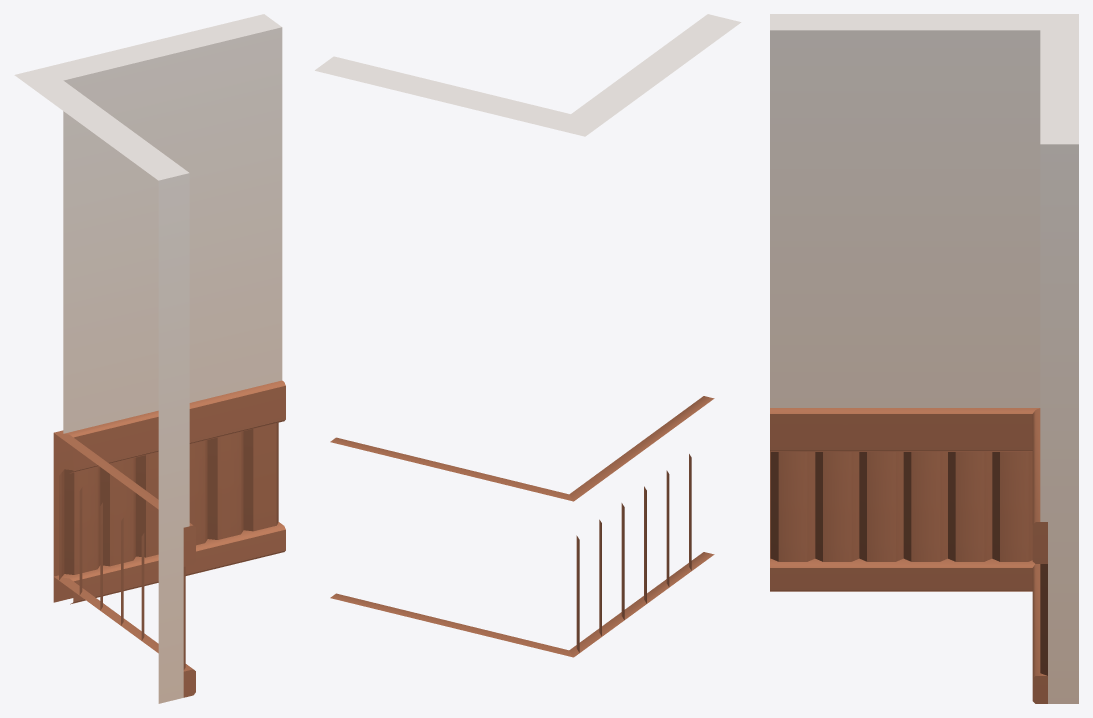
The model's file is wall-modular-panelled-bakery-corner-inner-b.glb.
The picture shows the model from 3 angles, left to right: view 1: azimuth 30°, elevation 25°; view 2: azimuth 150°, elevation 25°; view 3: azimuth 270°, elevation 25°; orthographic projection. The views are drawn at different scales.
Visible parts, largest first — view 1: wall_modular_panelled_bakery_corner_inner_B; view 2: wall_modular_panelled_bakery_corner_inner_B; view 3: wall_modular_panelled_bakery_corner_inner_B.
Boxes of the visible parts, x1=… form: wall_modular_panelled_bakery_corner_inner_B: x1=14, y1=14, x2=285, y2=703; wall_modular_panelled_bakery_corner_inner_B: x1=315, y1=14, x2=741, y2=657; wall_modular_panelled_bakery_corner_inner_B: x1=770, y1=14, x2=1078, y2=703.
Bounding box in the file's own units: 2 × 4 × 2.
Materials: 1 (1 with a texture image).
